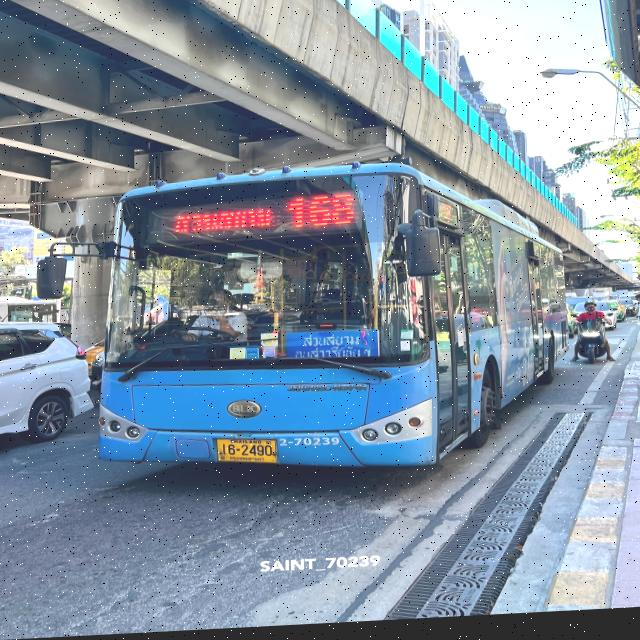BMTA-bus: (97, 159, 566, 487)
Bus-Line-Number: (283, 191, 361, 235)
Destination-Sign-Normal: (285, 330, 378, 368)
